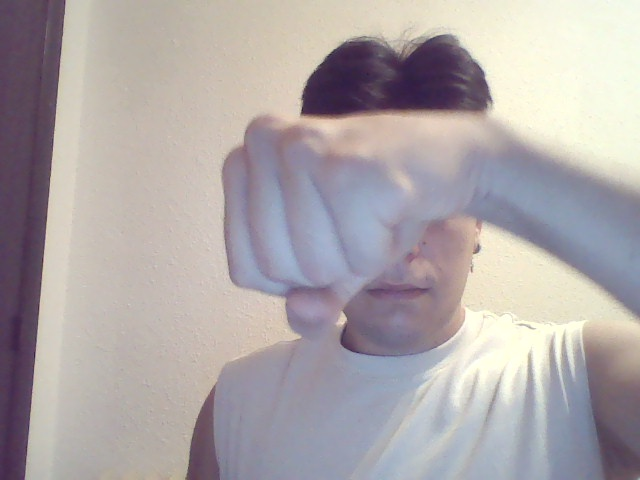Si: (220, 96, 488, 338)
